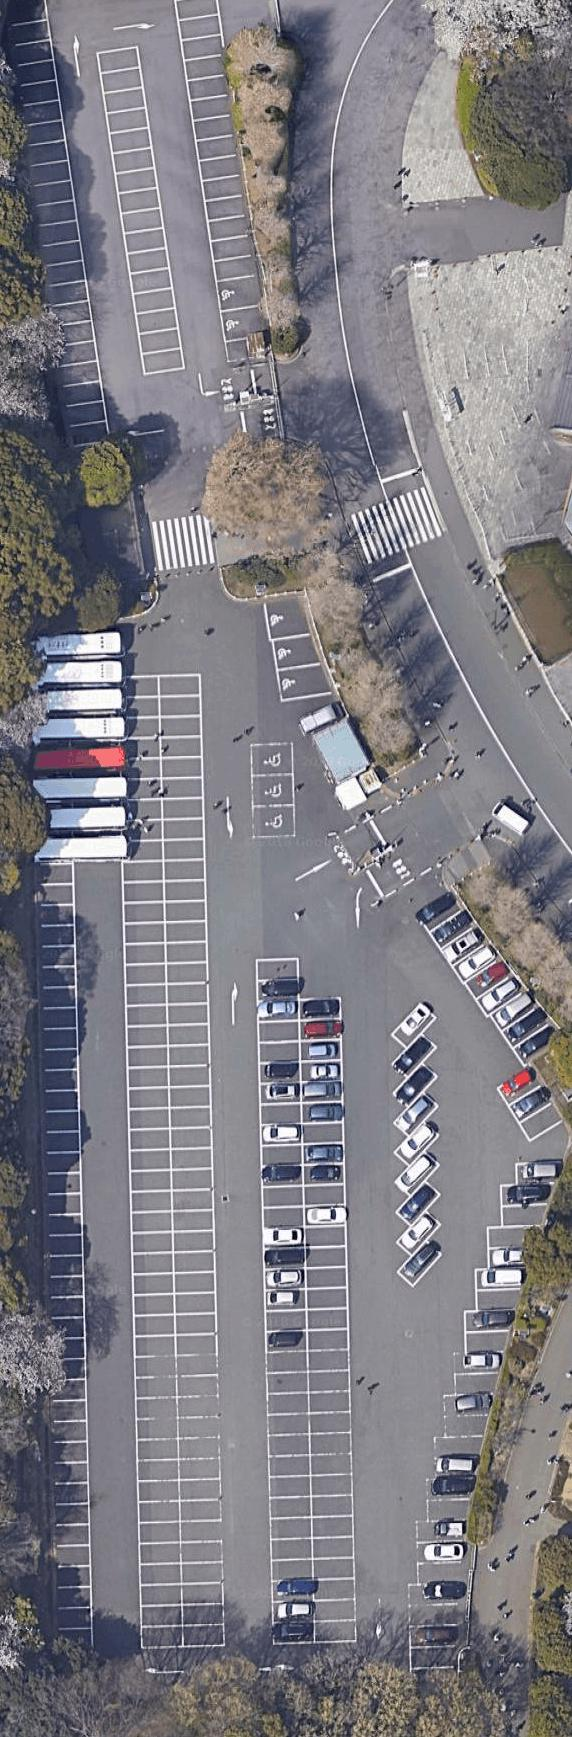parkingspot: (407, 1159, 563, 1671), (156, 674, 226, 1648), (120, 674, 184, 1649), (34, 862, 95, 1649), (6, 0, 112, 450), (254, 957, 317, 1646), (297, 995, 360, 1645), (171, 0, 273, 345), (95, 45, 186, 377), (413, 887, 560, 1068), (388, 1001, 445, 1289), (262, 593, 337, 703), (496, 1066, 565, 1143), (249, 742, 297, 839)
